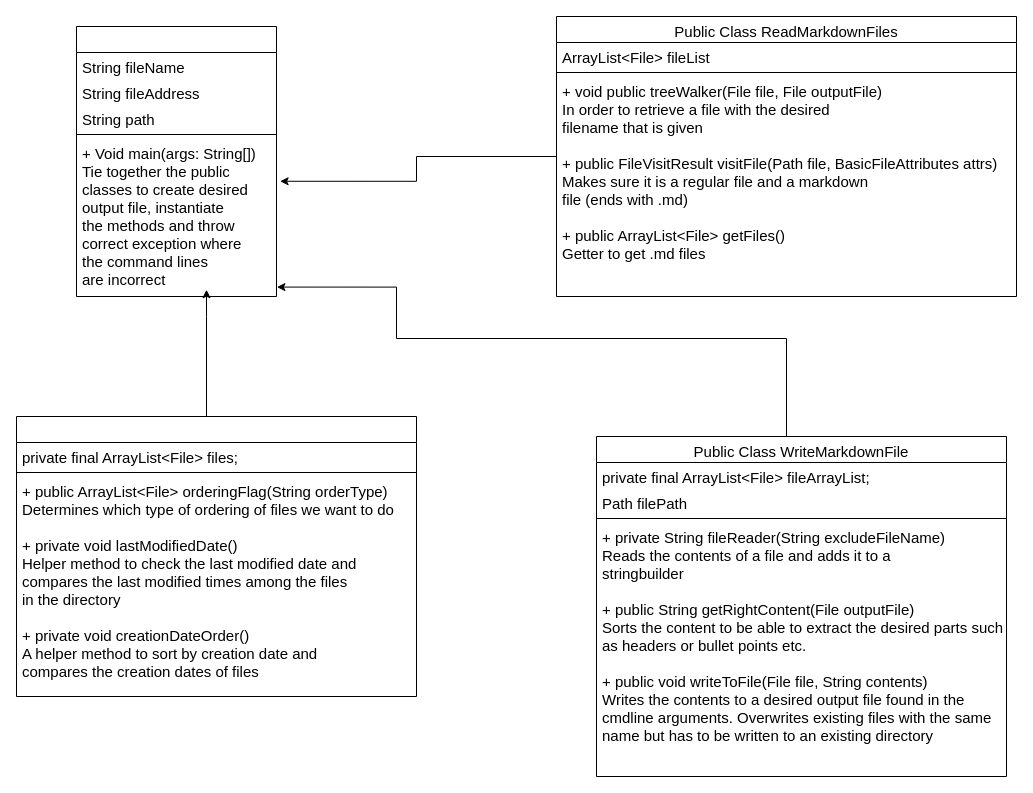
Image size: 1033x793. Some labels were removed from this diagram. Each missing label, with the box of its shape:
Class Driver (Main class): (76, 26, 276, 296)
Public Class SortingMarkdownFile: (16, 416, 416, 696)
